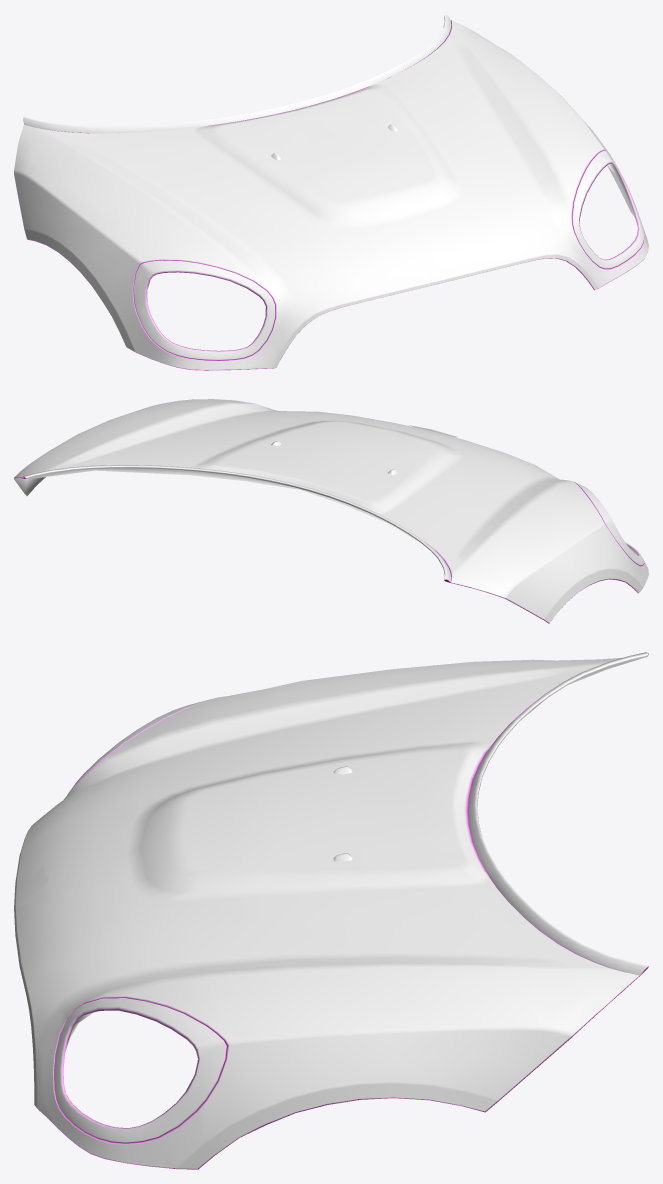
The model's file is Car_Mini_CountrymanJCW_2017_Hood_SetC.fbx.
3 renders of one model, top to bottom at view 1: azimuth 30°, elevation 25°; view 2: azimuth 150°, elevation 25°; view 3: azimuth 270°, elevation 25°, orthographic. The views are drawn at different scales.
Visible parts, largest first — view 1: Hood 6; view 2: Hood 6; view 3: Hood 6.
Boxes of the visible parts, x1,y1,x2,y2 form: Hood 6: (14, 14, 648, 370); Hood 6: (14, 399, 648, 623); Hood 6: (14, 652, 648, 1169).
Bounding box in the file's own units: 1.78 × 0.3896 × 1.23.
